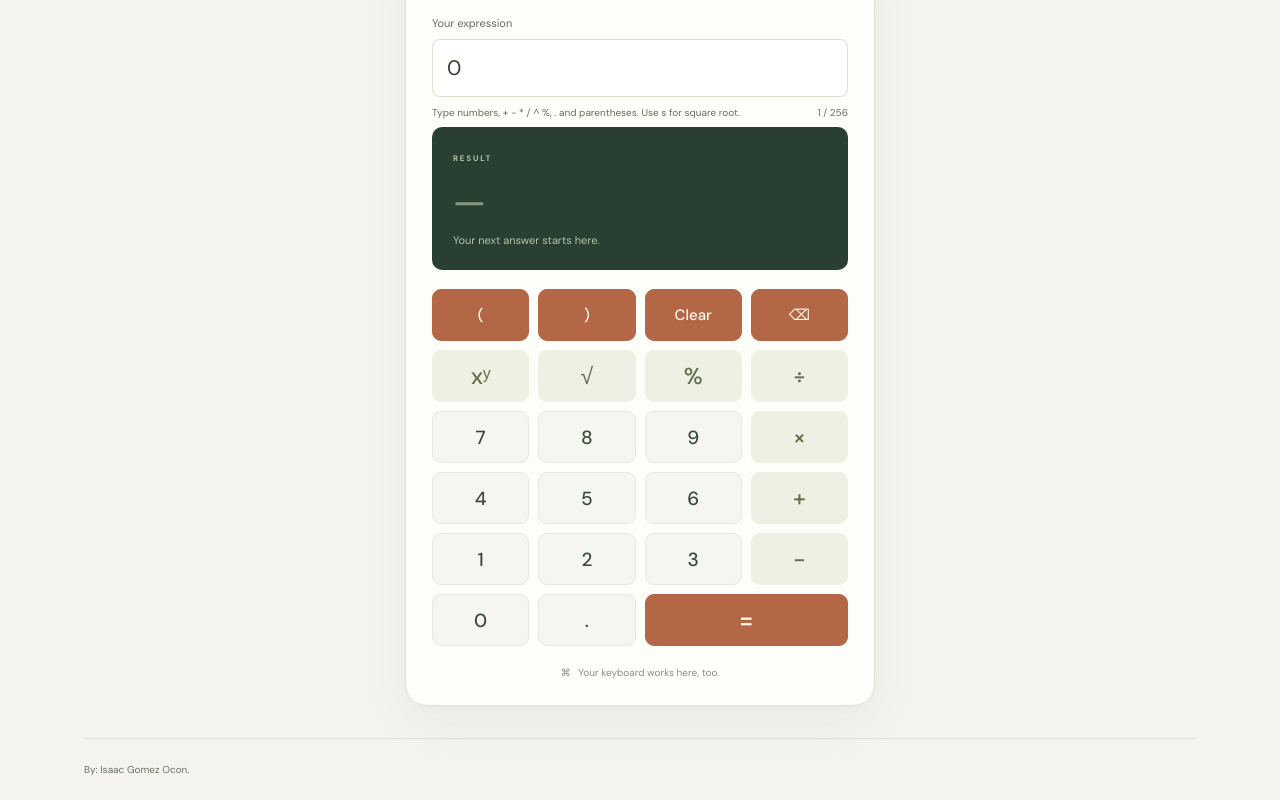
Test: calculator form › starts at zero, submits it, and resets the expression and result on Clear
(page scrolled)
Expected: the field labelled "Your expression" holds "0", [432, 39, 848, 97]
Click the button named "Calculate" at [746, 620], box [644, 594, 848, 646]
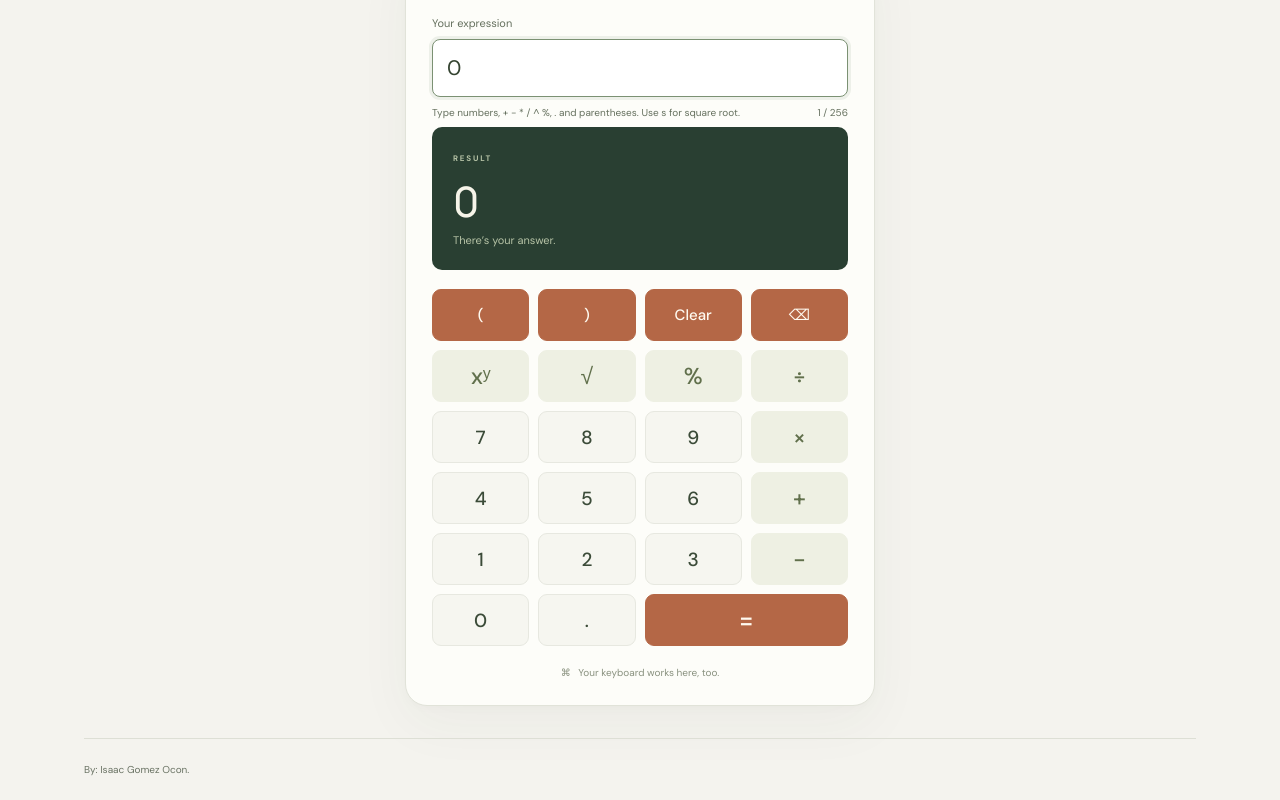
Result: the message reads "0" at [453, 172, 478, 230]
Click the button "Clear" at [693, 315], box [644, 289, 742, 341]
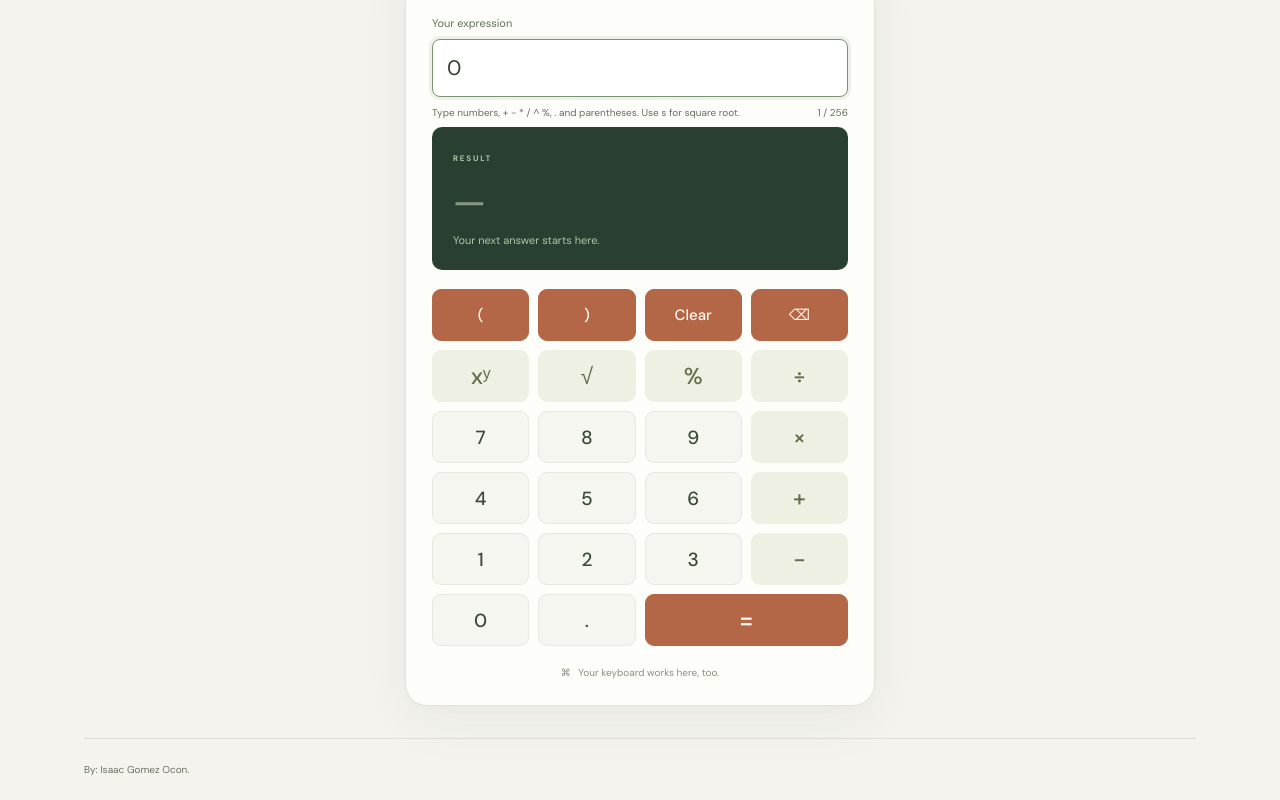
Expected: the field labelled "Your expression" holds "0", [432, 39, 848, 97]
Result: the message reads "—" at [453, 172, 484, 230]
